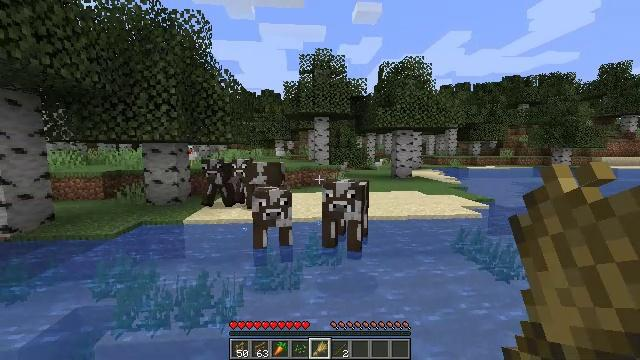cow: (322, 179, 368, 248), (233, 161, 285, 205), (254, 189, 294, 246), (202, 157, 234, 205)
